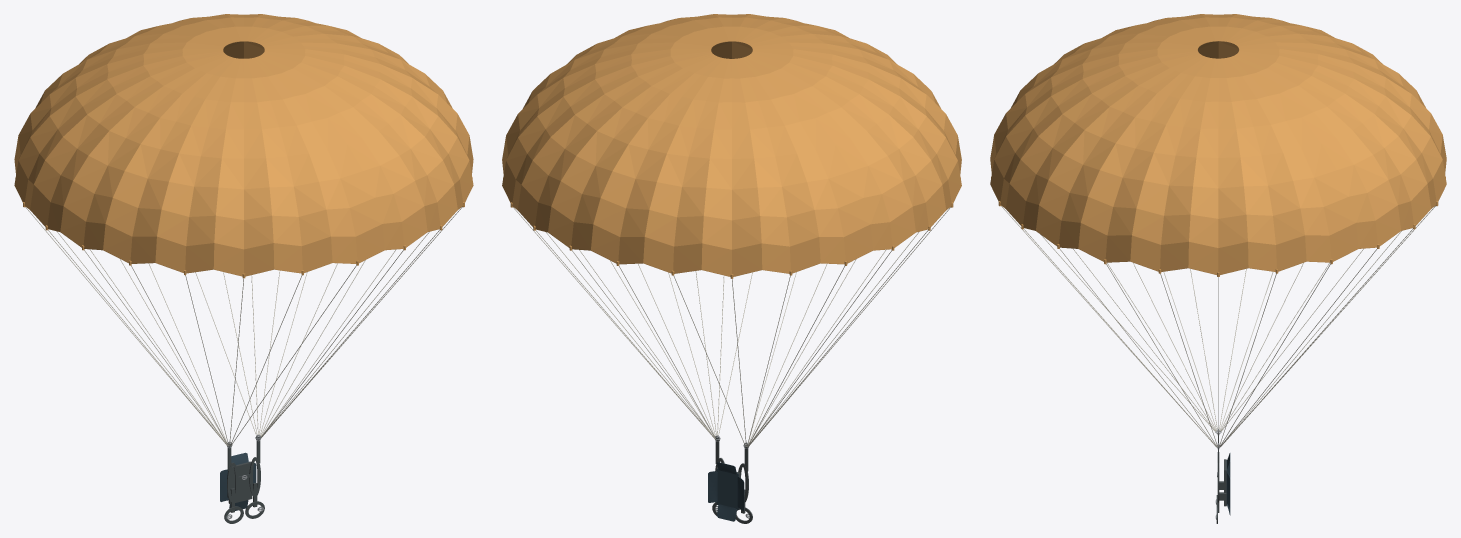
3 renders of one model, left to right at view 1: azimuth 30°, elevation 25°; view 2: azimuth 150°, elevation 25°; view 3: azimuth 270°, elevation 25°, orthographic.
Visible parts, largest first — view 1: Complete double-wall 24-gore canopy, Back_pad; view 2: Complete double-wall 24-gore canopy, Pack_lining; view 3: Complete double-wall 24-gore canopy.
Boxes of the visible parts, bbox=[...] form: Complete double-wall 24-gore canopy: bbox=[14, 14, 473, 276]; Back_pad: bbox=[228, 461, 252, 504]; Complete double-wall 24-gore canopy: bbox=[502, 14, 961, 276]; Pack_lining: bbox=[716, 468, 738, 509]; Complete double-wall 24-gore canopy: bbox=[990, 14, 1446, 274].
Size of the model in its own units: 6.06 by 6.85 by 6.06.
